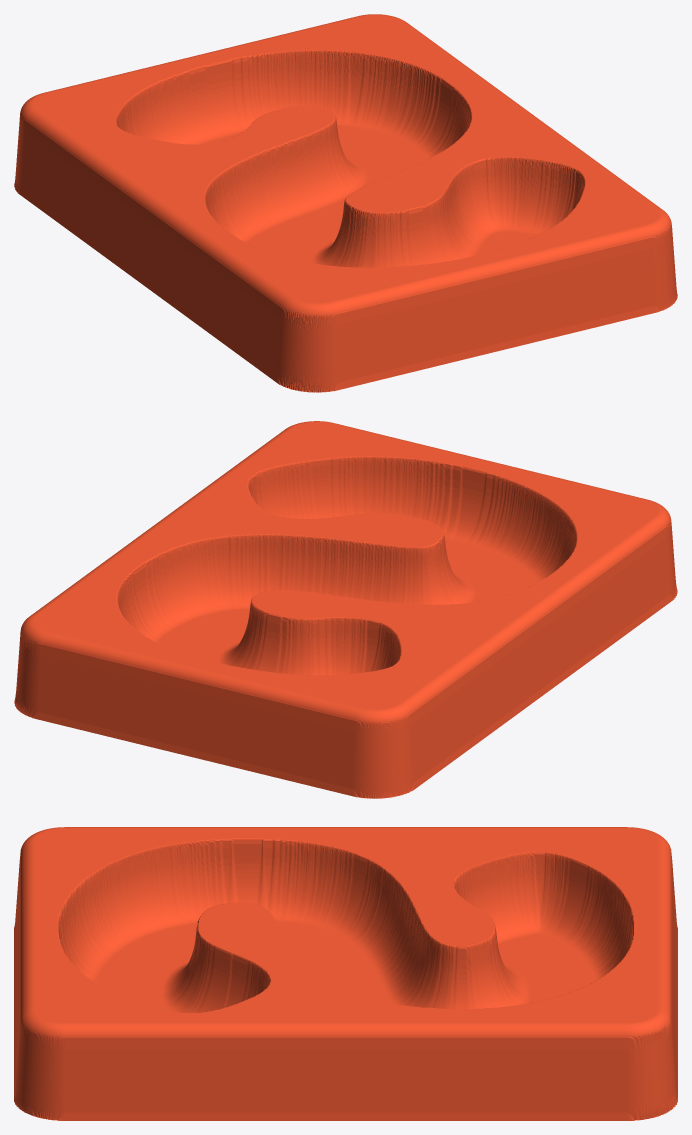
File: mold.glb
The picture shows the model from 3 angles, top to bottom: view 1: azimuth 30°, elevation 25°; view 2: azimuth 150°, elevation 25°; view 3: azimuth 270°, elevation 25°; orthographic projection. The views are drawn at different scales.
Parts seen in each view (by area): view 1: geometry_0; view 2: geometry_0; view 3: geometry_0.
Boxes of the visible parts, <box> form: geometry_0: <box>14,14,677,392</box>; geometry_0: <box>14,421,677,798</box>; geometry_0: <box>14,827,677,1120</box>.
Bounding box in the file's own units: 0.0888 × 0.0175 × 0.1178.
